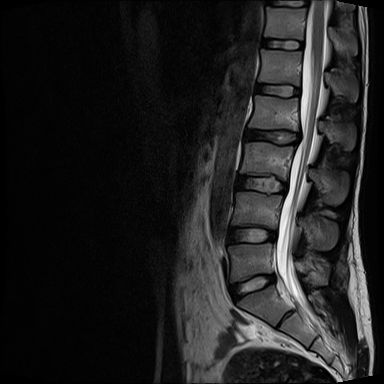Lumbar Disc Bulge (LDB): (223, 268, 281, 307), (231, 170, 292, 198), (239, 125, 306, 150)
Normal IVD: (222, 223, 282, 250), (247, 79, 304, 102), (254, 35, 308, 53)
Spinal Stenosis (SS): (266, 265, 281, 290), (290, 128, 307, 150), (276, 178, 292, 199)
